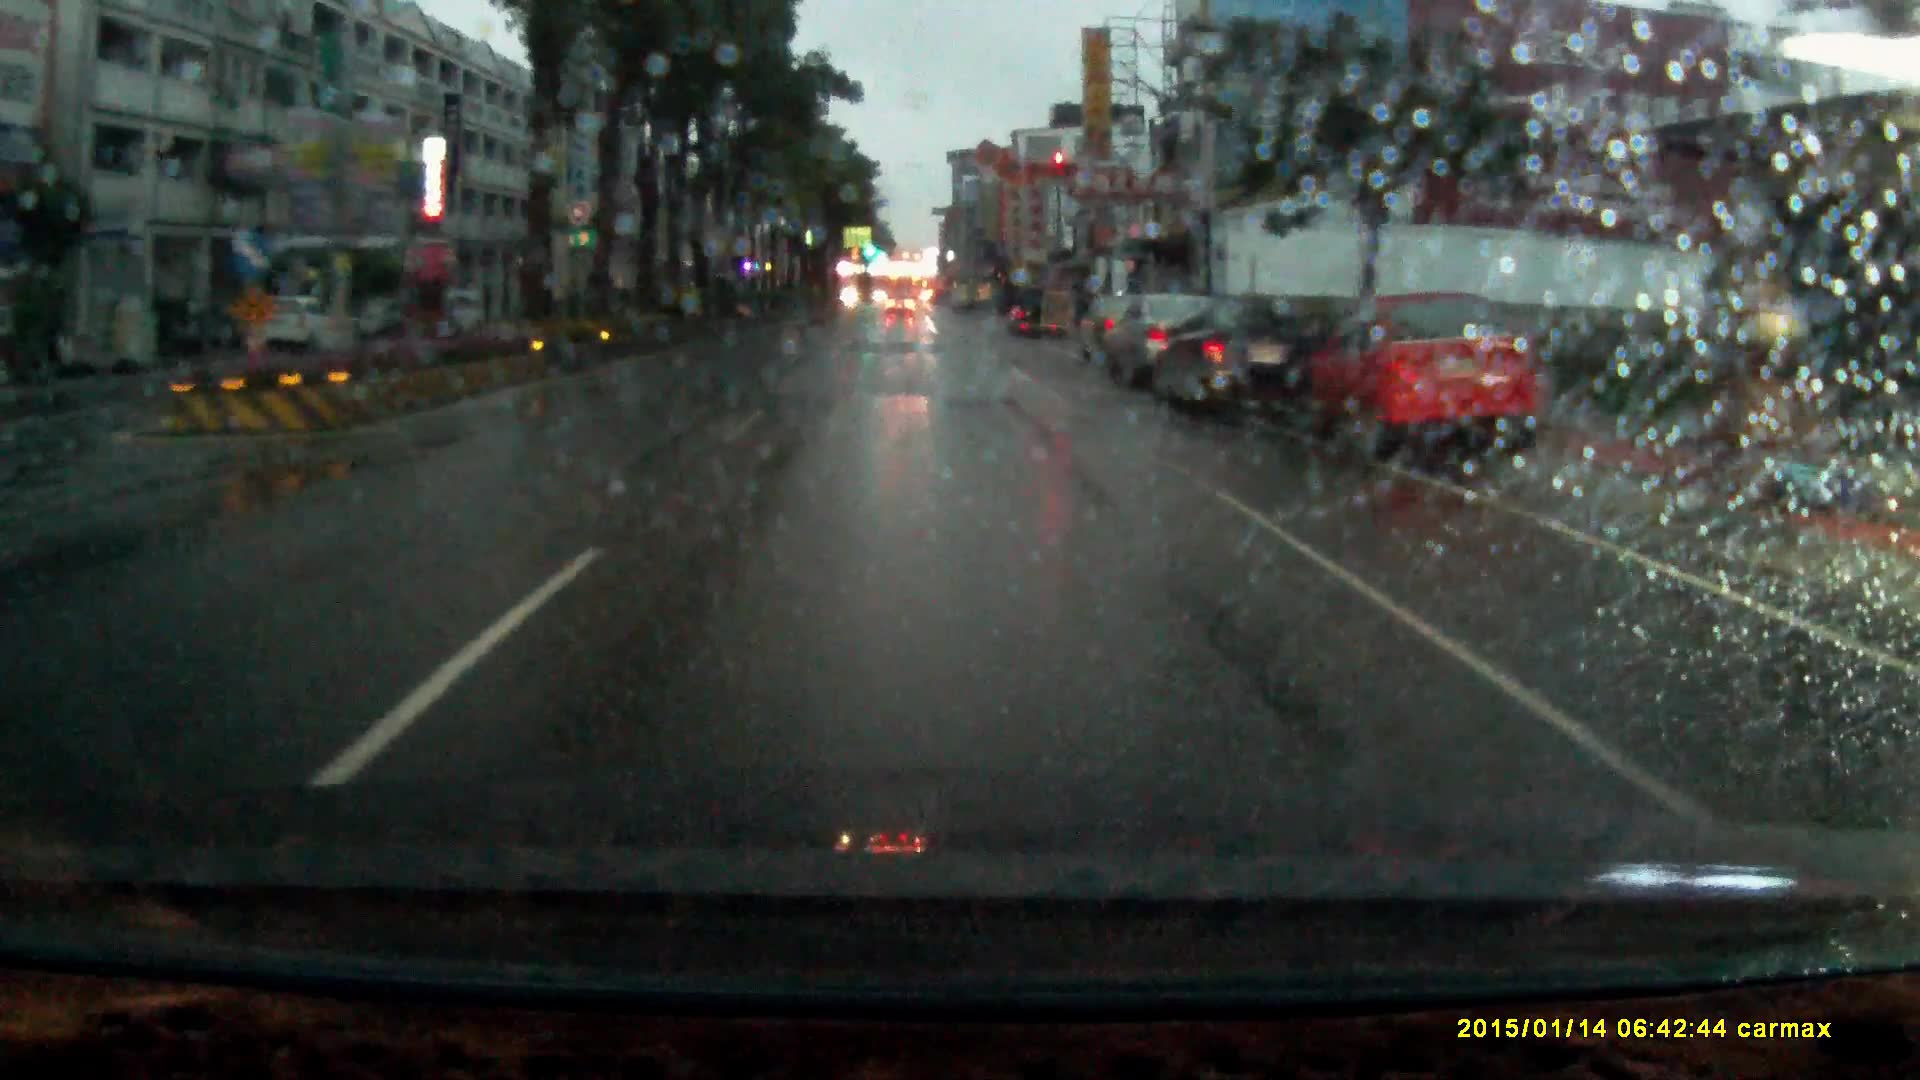vehicle: (1313, 301, 1569, 473), (1149, 301, 1333, 429), (1108, 297, 1217, 388), (388, 290, 491, 342), (255, 297, 338, 357), (1077, 299, 1134, 364), (1002, 289, 1065, 345), (885, 291, 916, 322)
